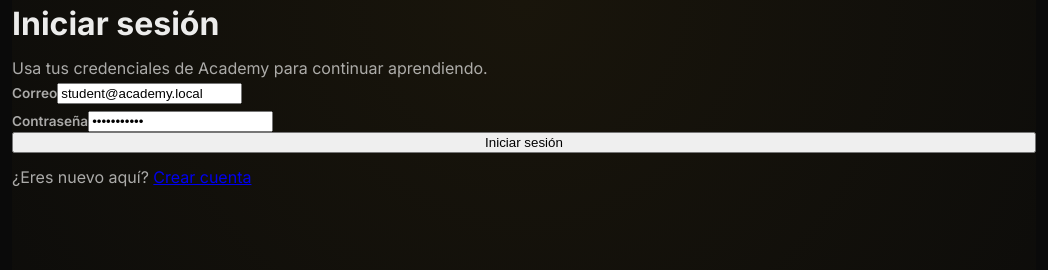
Test: LoginForm › shows generic message on network failure
What coordinates should you click on to do the following:
click the button "Iniciar sesión"
I would click on:
 (524, 142)
Its box is [12,132,1036,153].
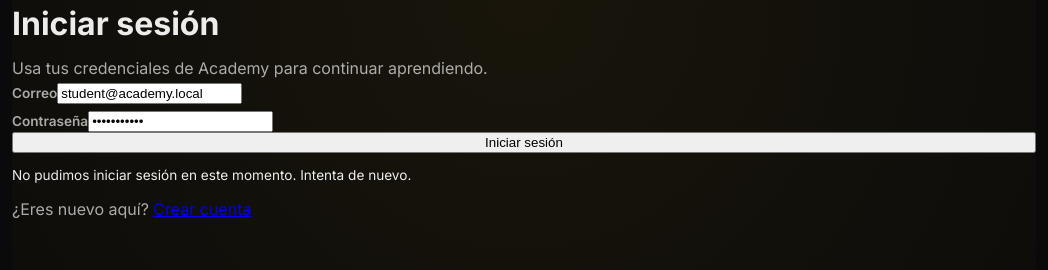
Result: the text "No pudimos iniciar sesión en este momento. Intenta de nuevo." is shown at [12,167,411,183]
